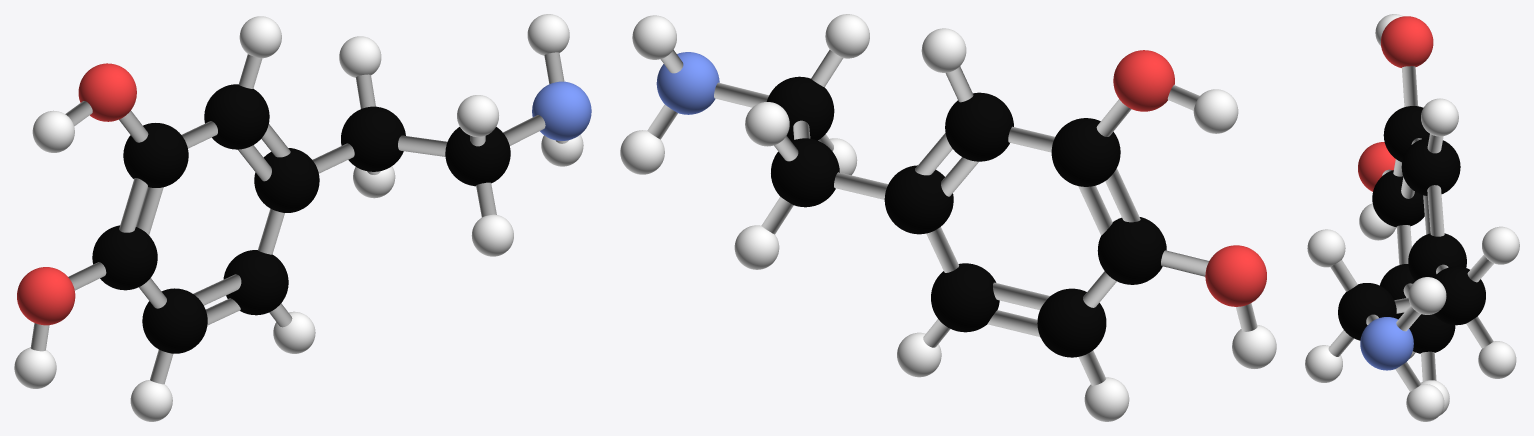
File: template.gltf
3 renders of one model, left to right at view 1: azimuth 30°, elevation 25°; view 2: azimuth 150°, elevation 25°; view 3: azimuth 270°, elevation 25°, orthographic. The views are drawn at different scales.
Visible parts, largest first — view 1: Dopamine.mol.001; view 2: Dopamine.mol.001; view 3: Dopamine.mol.001.
Part boxes in pixels (left/top/right/bottom): Dopamine.mol.001: left=14, top=14, right=591, bottom=421; Dopamine.mol.001: left=620, top=14, right=1276, bottom=421; Dopamine.mol.001: left=1305, top=14, right=1519, bottom=421.
Size of the model in its own units: 8.85 by 5.17 by 3.1.
